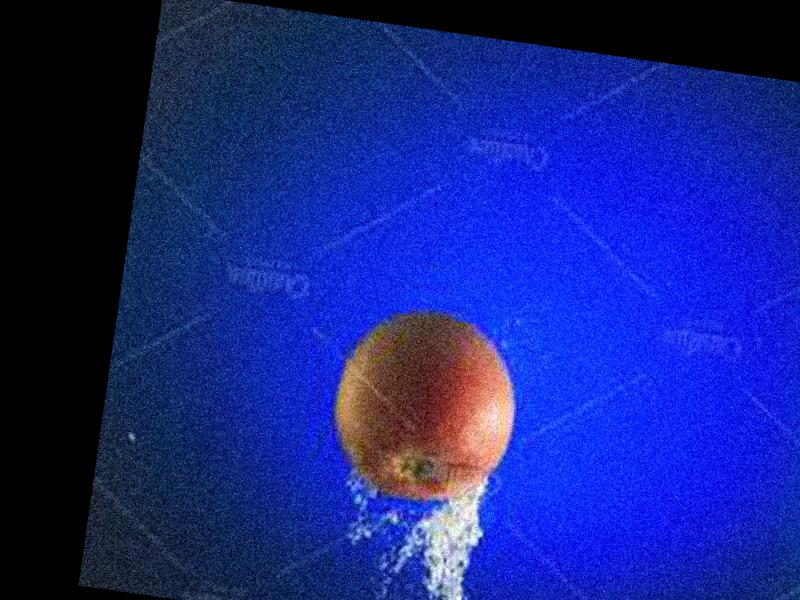Tomato: (321, 305, 525, 512)
